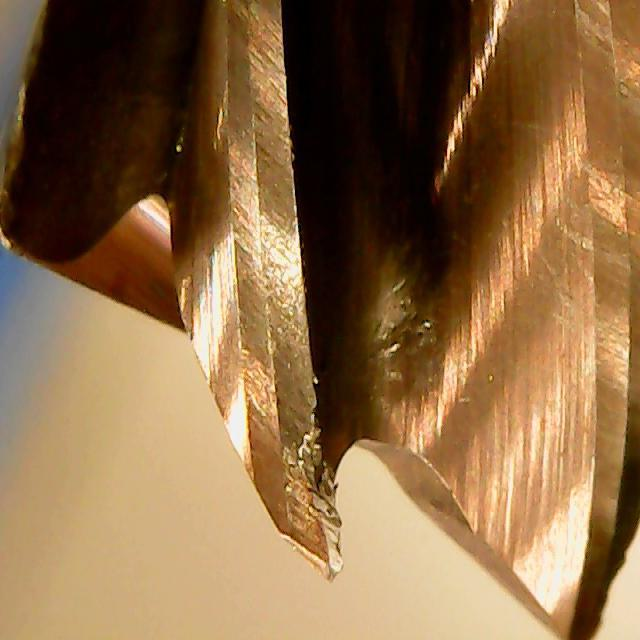Tool-wear-class-1: (221, 366, 368, 584)
